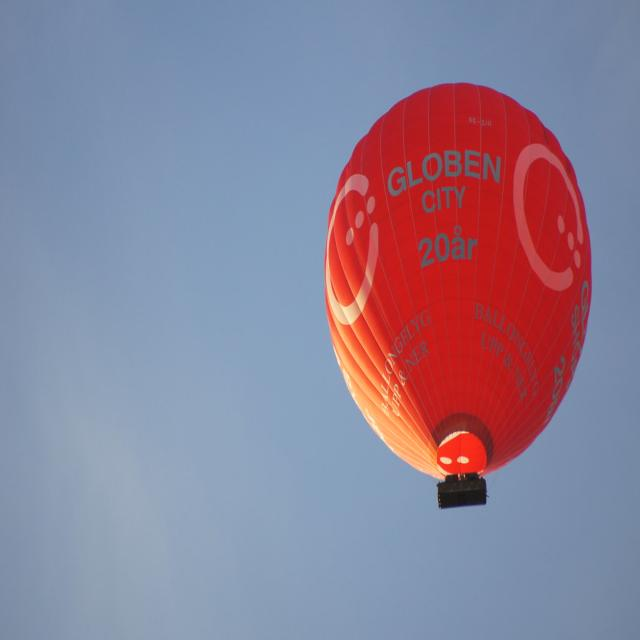balloon: (325, 81, 594, 509)
